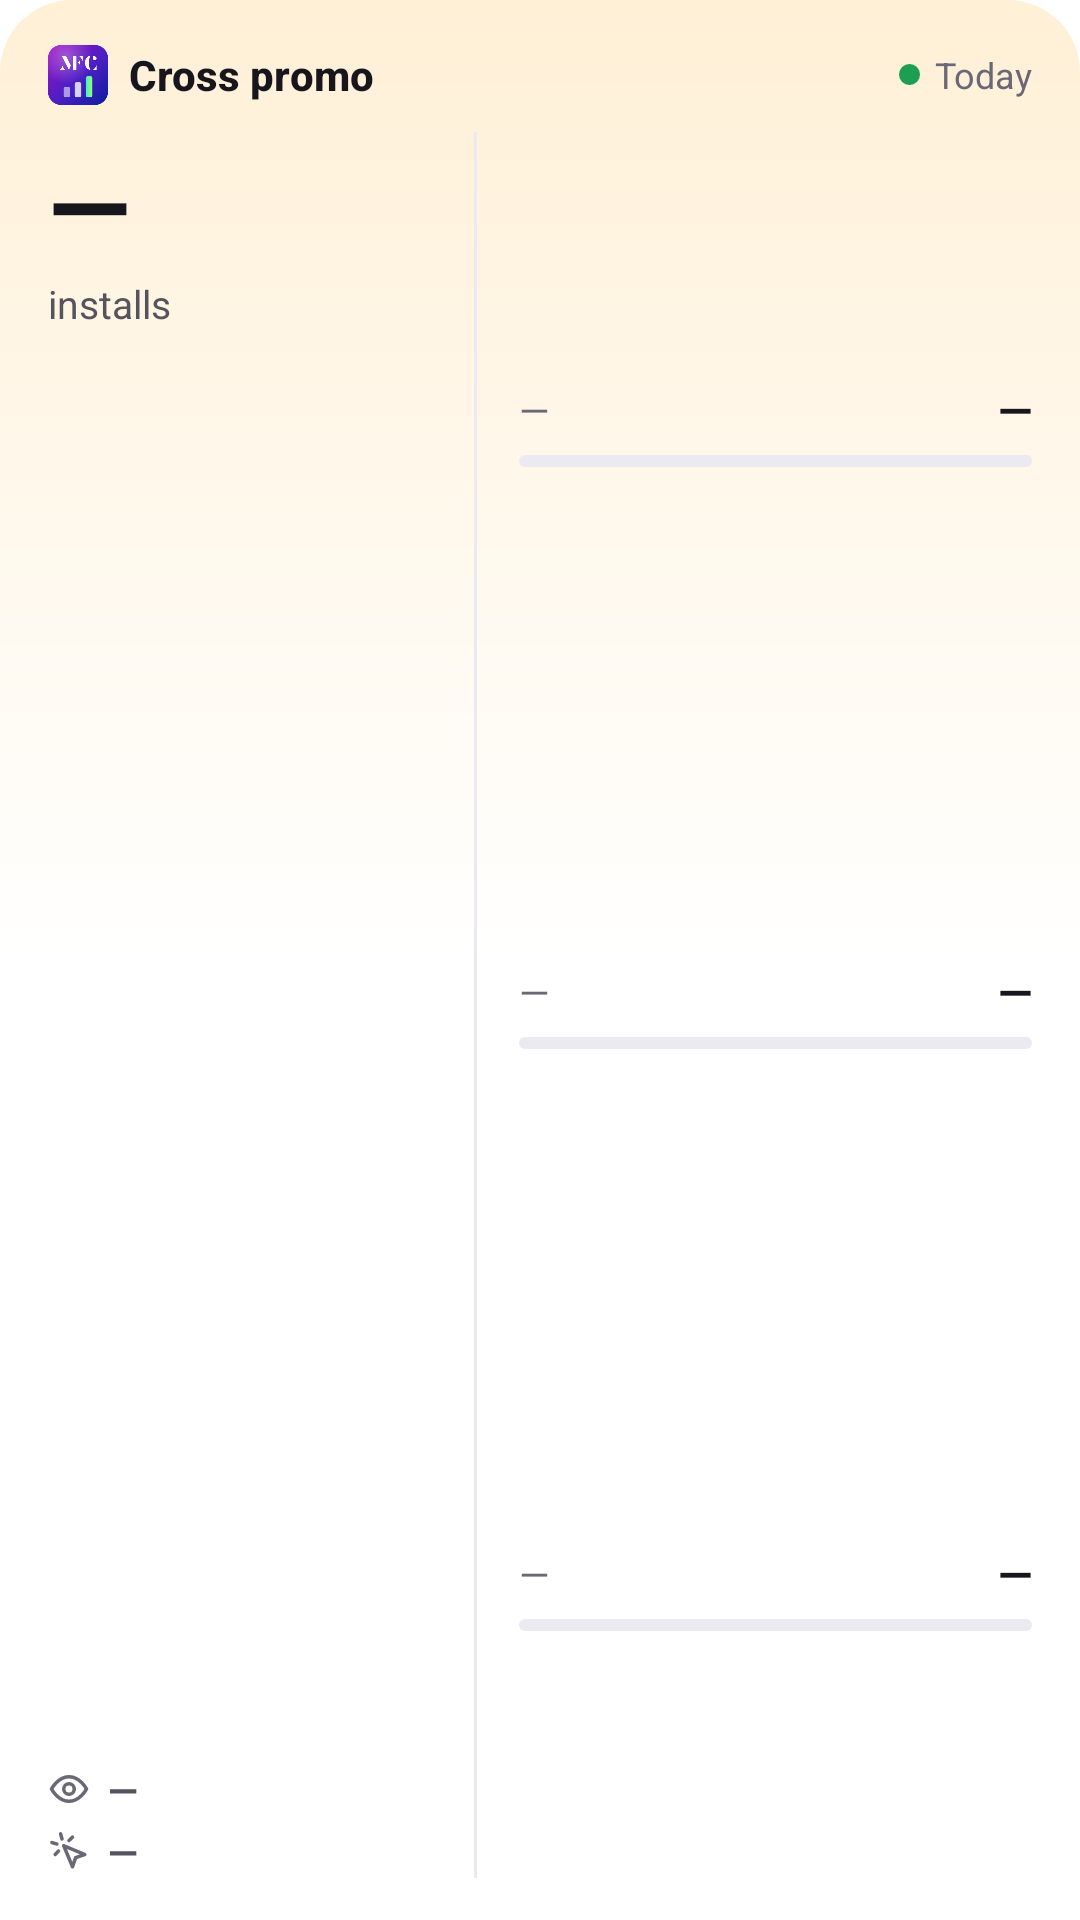

Icons on this 1080 x 1920 Android screen, each with its box as (x1, y1, x2, y2):
widget click: (50, 1832, 87, 1869)
widget eye: (50, 1775, 88, 1803)
